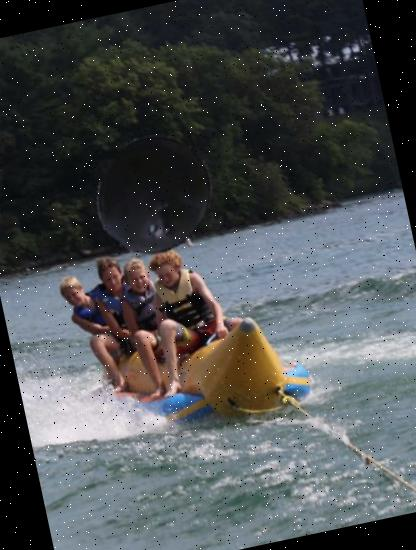Grape: (82, 123, 227, 268)
